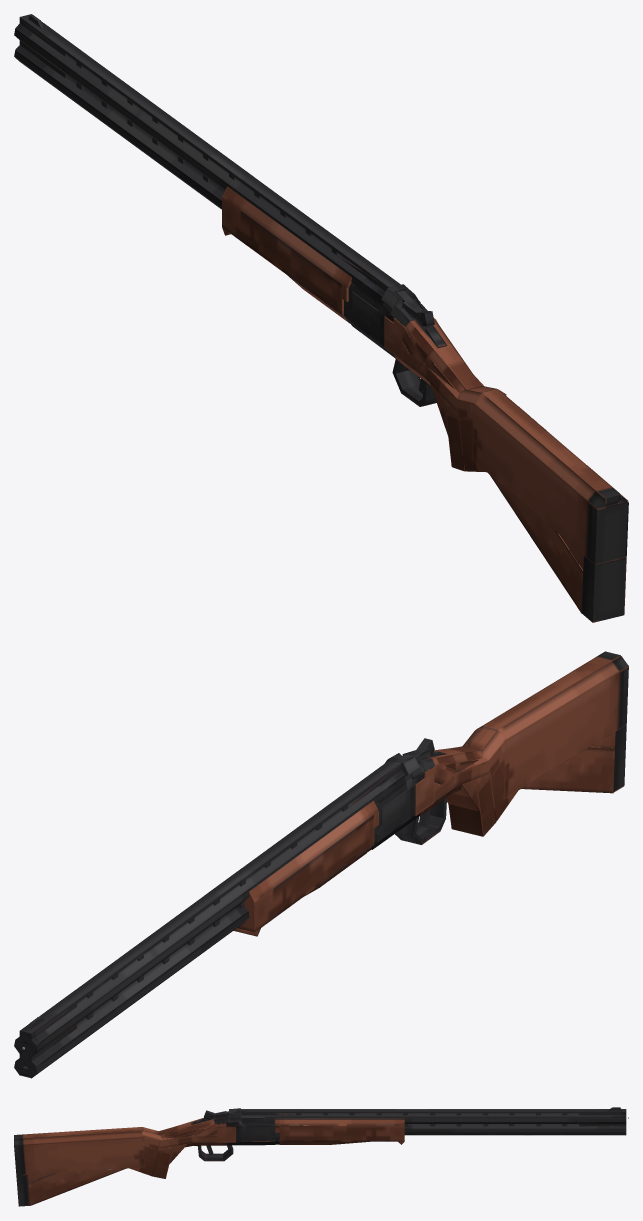
File: shotgun.obj
3 views of the same model, one above another, from view 1: azimuth 30°, elevation 25°; view 2: azimuth 150°, elevation 25°; view 3: azimuth 270°, elevation 25° (orthographic). The views are drawn at different scales.
Visible parts, largest first — view 1: gun_77, barrels_20; view 2: gun_77, barrels_20; view 3: gun_77, barrels_20, bone_4.
Part boxes in pixels (left/top/right/bottom): gun_77: left=347, top=284, right=628, bottom=622; barrels_20: left=14, top=14, right=400, bottom=323; gun_77: left=372, top=651, right=628, bottom=849; barrels_20: left=14, top=760, right=407, bottom=1078; gun_77: left=14, top=1108, right=275, bottom=1206; barrels_20: left=241, top=1107, right=626, bottom=1144; bone_4: left=204, top=1110, right=235, bottom=1119.
Size of the model in its own units: 0.2567 by 1.37 by 8.07.
